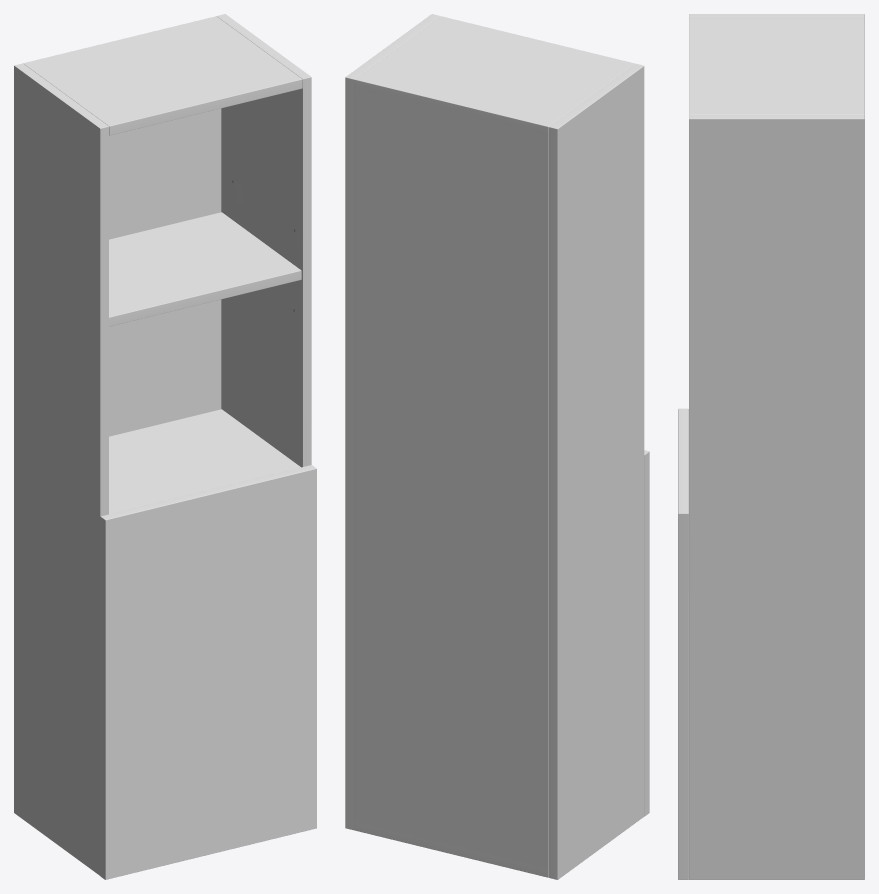
The model's file is abo-B07RMJS9WF.glb.
The picture shows the model from 3 angles, left to right: view 1: azimuth 30°, elevation 25°; view 2: azimuth 150°, elevation 25°; view 3: azimuth 270°, elevation 25°; orthographic projection.
Bounding box in the file's own units: 0.4 × 1.35 × 0.3.
1 material, 1 textured.
